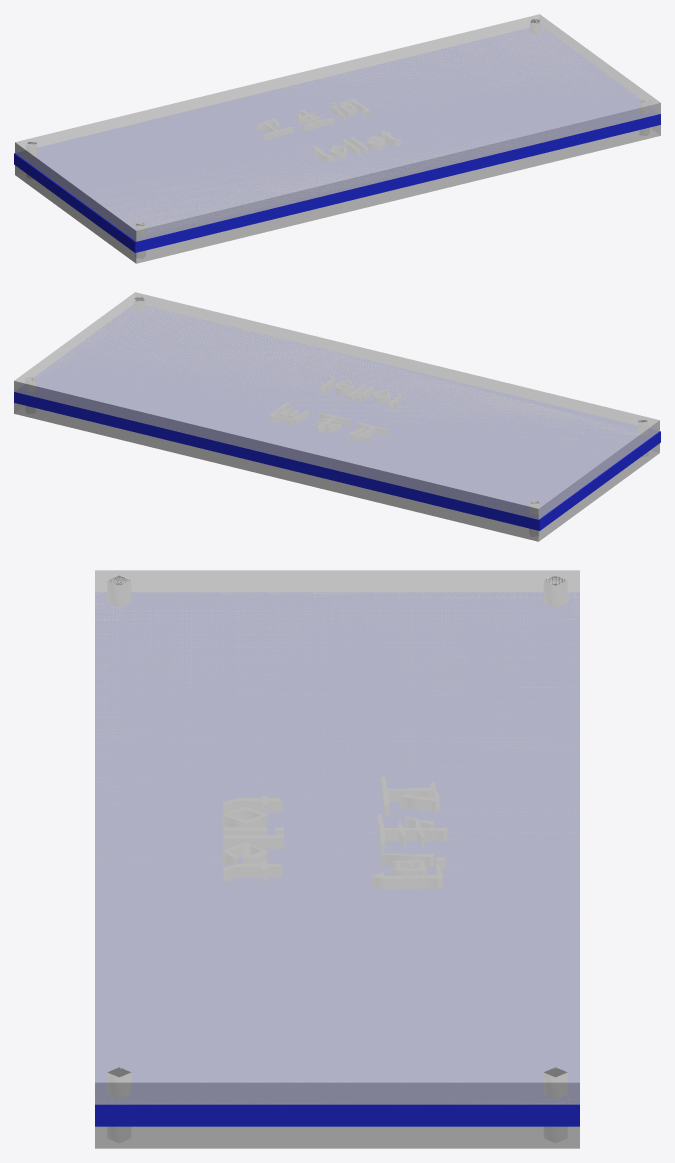
Rendered from 卫生间门牌.fbx.
The picture shows the model from 3 angles, top to bottom: view 1: azimuth 30°, elevation 25°; view 2: azimuth 150°, elevation 25°; view 3: azimuth 270°, elevation 25°; orthographic projection. The views are drawn at different scales.
Parts seen in each view (by area): view 1: 物件_58, 物件_53, 物件_57; view 2: 物件_58, 物件_53, 物件_57; view 3: 物件_58, 物件_57, 物件_53.
Boxes of the visible parts, box(x1,y1,x2,y2) form: 物件_58: box(15, 14, 660, 241); 物件_53: box(14, 114, 660, 252); 物件_57: box(15, 125, 660, 263); 物件_58: box(14, 292, 659, 519); 物件_53: box(14, 392, 660, 530); 物件_57: box(14, 403, 659, 541); 物件_58: box(95, 570, 579, 1104); 物件_57: box(95, 1126, 579, 1148); 物件_53: box(95, 1104, 579, 1126).
Bounding box in the file's own units: 50.1 × 20 × 3.
